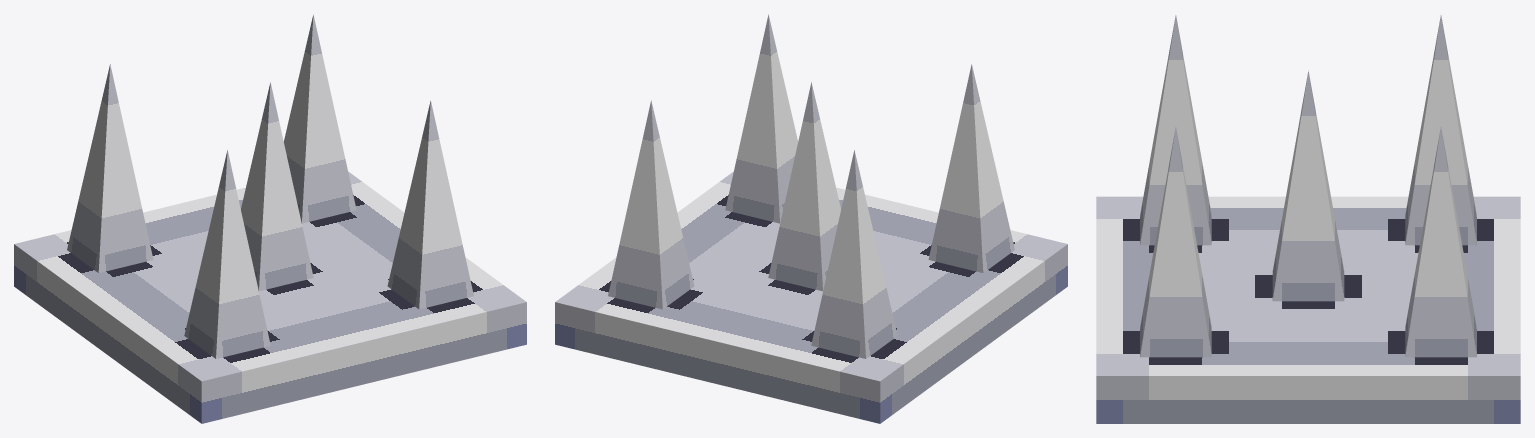
Rendered from spike-trap.gltf.
The picture shows the model from 3 angles, left to right: view 1: azimuth 30°, elevation 25°; view 2: azimuth 150°, elevation 25°; view 3: azimuth 270°, elevation 25°; orthographic projection. The views are drawn at different scales.
Parts seen in each view (by area): view 1: cube, pyramid (×5); view 2: cube, pyramid (×5); view 3: cube, pyramid (×5).
Boxes of the visible parts, box(x1,y1,x2,y2) form: cube: box(14, 171, 526, 423); pyramid (×5): box(67, 14, 473, 358); cube: box(555, 171, 1067, 423); pyramid (×5): box(608, 14, 1014, 358); cube: box(1096, 196, 1520, 423); pyramid (×5): box(1140, 15, 1476, 357).
Bounding box in the file's own units: 1 × 0.6875 × 1.
1 material, 1 textured.
